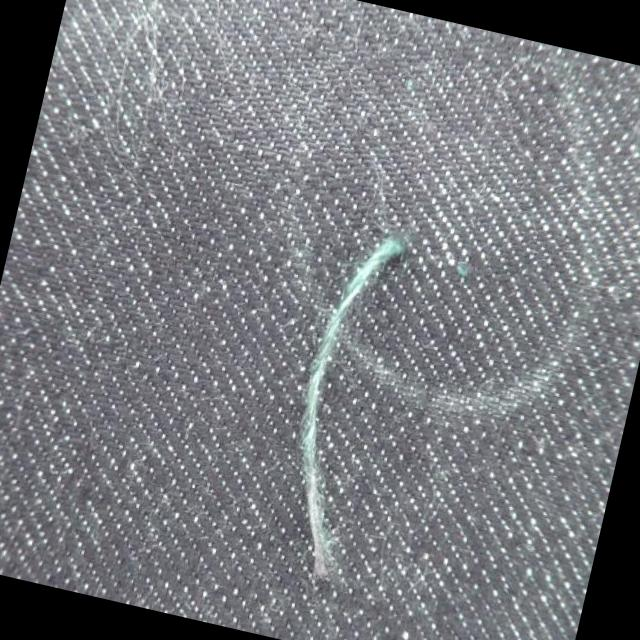Stain: (238, 191, 512, 422), (473, 71, 640, 440)
Thread: (259, 222, 415, 588)
